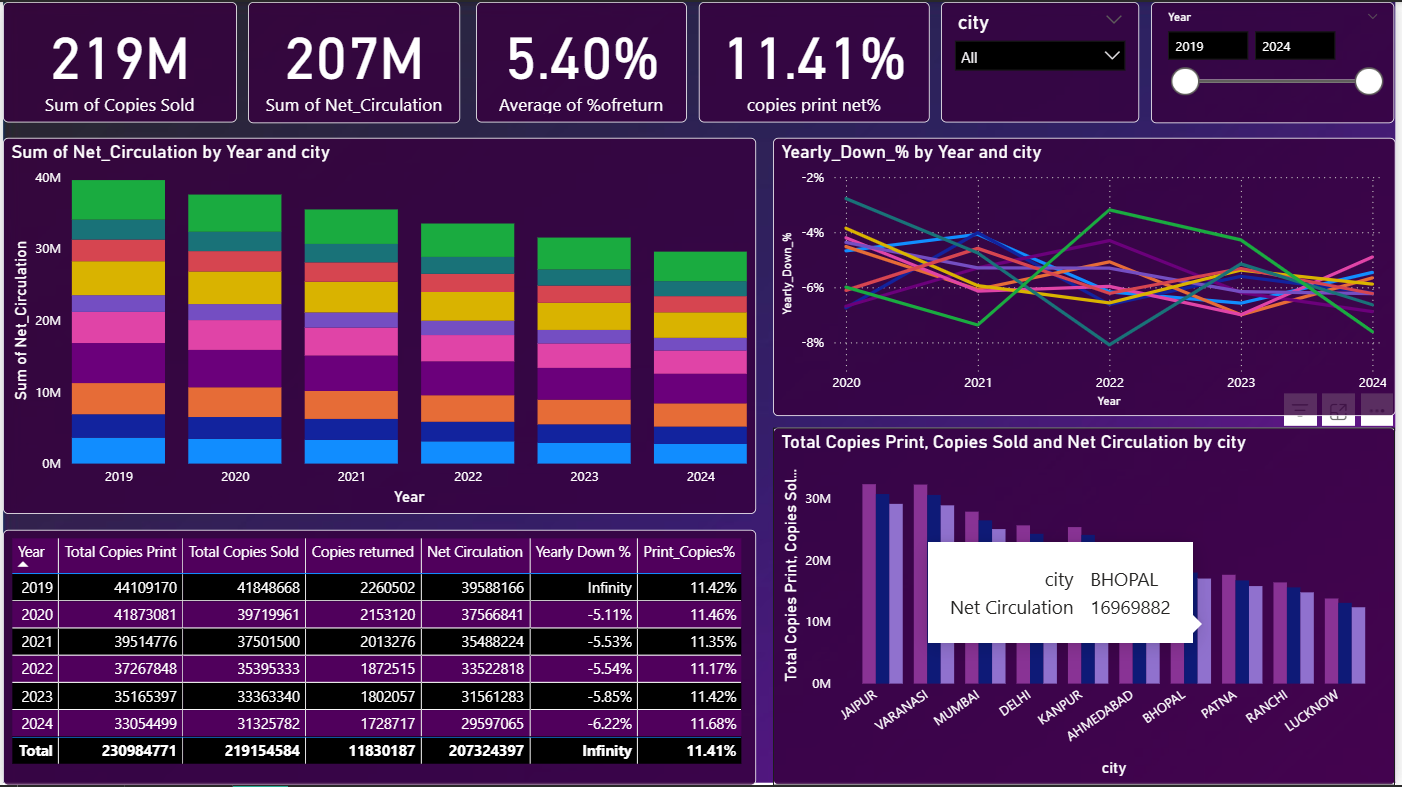

This screenshot's page, from the dashboard's own definition file:
{"tool":"powerbi","page":{"name":"Page 2","canvas":[1280,720],"ordinal":1},"visuals":[{"type":"columnChart","fields":{"Category":["fact_print_sales.Month.Variation.Date Hierarchy.Year"],"Y":["Sum(fact_print_sales.Net_Circulation)"],"Series":["dim_city.city"]},"box":[0,124.7,692,346],"z":0},{"type":"tableEx","fields":{"Values":["fact_print_sales.Month.Variation.Date Hierarchy.Year","Sum(fact_print_sales.Total Copies Print)","Sum(fact_print_sales.Copies Sold)","Sum(fact_print_sales.copies_returned)","Sum(fact_print_sales.Net_Circulation)","fact_print_sales.Yearly_Down_%","fact_print_sales.copies print net"]},"box":[0,484.7,692,235.3],"z":1000},{"type":"slicer","fields":{"Values":["fact_print_sales.Month.Variation.Date Hierarchy.Year"]},"box":[1055.6,0,223.8,111.1],"z":2000},{"type":"slicer","fields":{"Values":["dim_city.city"]},"box":[861.9,0,182.3,110.7],"z":3000},{"type":"lineClusteredColumnComboChart","fields":{"Category":["dim_city.city"],"Y":["Sum(fact_print_sales.Total Copies Print)","Sum(fact_print_sales.Copies Sold)","Sum(fact_print_sales.Net_Circulation)"]},"box":[707.6,391.2,572,328.9],"z":4000},{"type":"card","fields":{"Values":["fact_print_sales.copies print net"]},"box":[639,0,212,110.7],"z":5000},{"type":"card","fields":{"Values":["Sum(fact_print_sales.Copies Sold)"]},"box":[0,0,215.1,110.7],"z":6000},{"type":"card","fields":{"Values":["Sum(fact_print_sales.Net_Circulation)"]},"box":[225.4,0,195.2,111.1],"z":7000},{"type":"card","fields":{"Values":["Avg(fact_print_sales.%ofreturn)"]},"box":[434.8,0,193.3,110.7],"z":8000},{"type":"lineChart","fields":{"Category":["fact_print_sales.Month.Variation.Date Hierarchy.Year"],"Y":["fact_print_sales.Yearly_Down_%"],"Series":["dim_city.city"]},"box":[707.6,124.7,572,255.6],"z":9000}]}

Visuals, with their boxes in screenshot pixels (x1, y1, x2, y2), scaled from the page's 1280x720 canvas onto the 1402x787 screenshot:
columnChart - fact_print_sales.Month.Variation.Date Hierarchy.Year x Sum(fact_print_sales.Net_Circulation): detection(0, 136, 758, 515)
tableEx - fact_print_sales.Month.Variation.Date Hierarchy.Year x Sum(fact_print_sales.Total Copies Print): detection(0, 530, 758, 786)
slicer - fact_print_sales.Month.Variation.Date Hierarchy.Year: detection(1156, 0, 1401, 121)
slicer - dim_city.city: detection(944, 0, 1144, 121)
lineClusteredColumnComboChart - dim_city.city x Sum(fact_print_sales.Total Copies Print): detection(775, 428, 1401, 786)
card - fact_print_sales.copies print net: detection(700, 0, 932, 121)
card - Sum(fact_print_sales.Copies Sold): detection(0, 0, 236, 121)
card - Sum(fact_print_sales.Net_Circulation): detection(247, 0, 461, 121)
card - Avg(fact_print_sales.%ofreturn): detection(476, 0, 688, 121)
lineChart - fact_print_sales.Month.Variation.Date Hierarchy.Year x fact_print_sales.Yearly_Down_%: detection(775, 136, 1401, 416)
